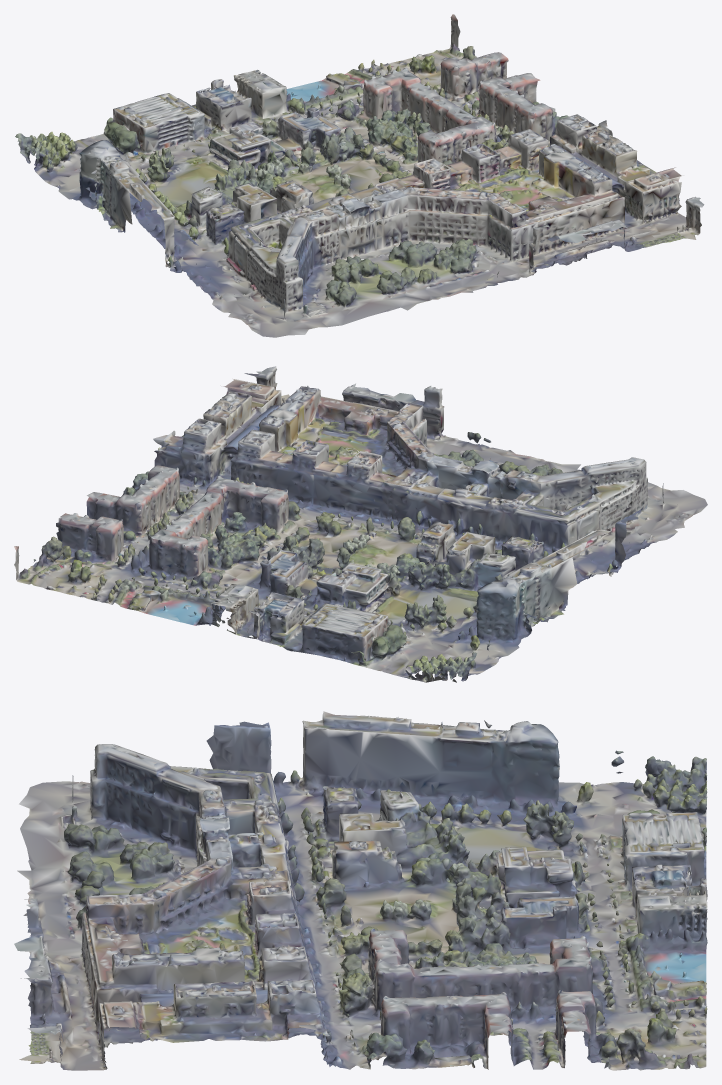
Rendered from surface-detail-3898_58189.glb.
The picture shows the model from 3 angles, top to bottom: view 1: azimuth 30°, elevation 25°; view 2: azimuth 150°, elevation 25°; view 3: azimuth 270°, elevation 25°; orthographic projection. The views are drawn at different scales.
Visible parts, largest first — view 1: world; view 2: world; view 3: world.
Part boxes in pixels (x1,y1,x2,y2): world: [15, 14, 704, 337]; world: [14, 366, 707, 682]; world: [14, 711, 707, 1070].
Bounding box in the file's own units: 378 × 45.08 × 370.
